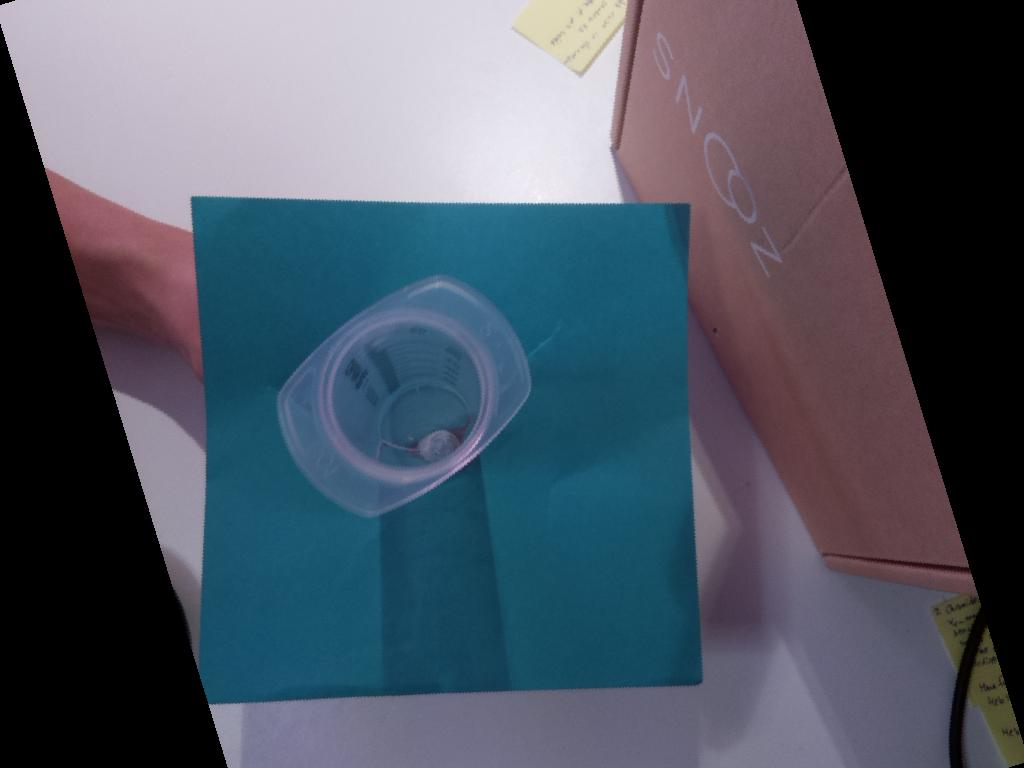clean: (277, 272, 531, 516)
